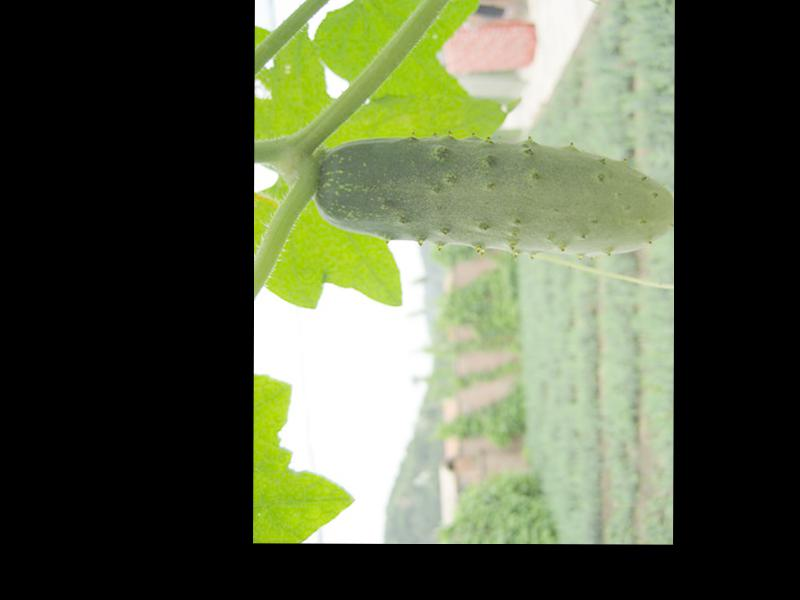Cucumber: (314, 137, 673, 253)
